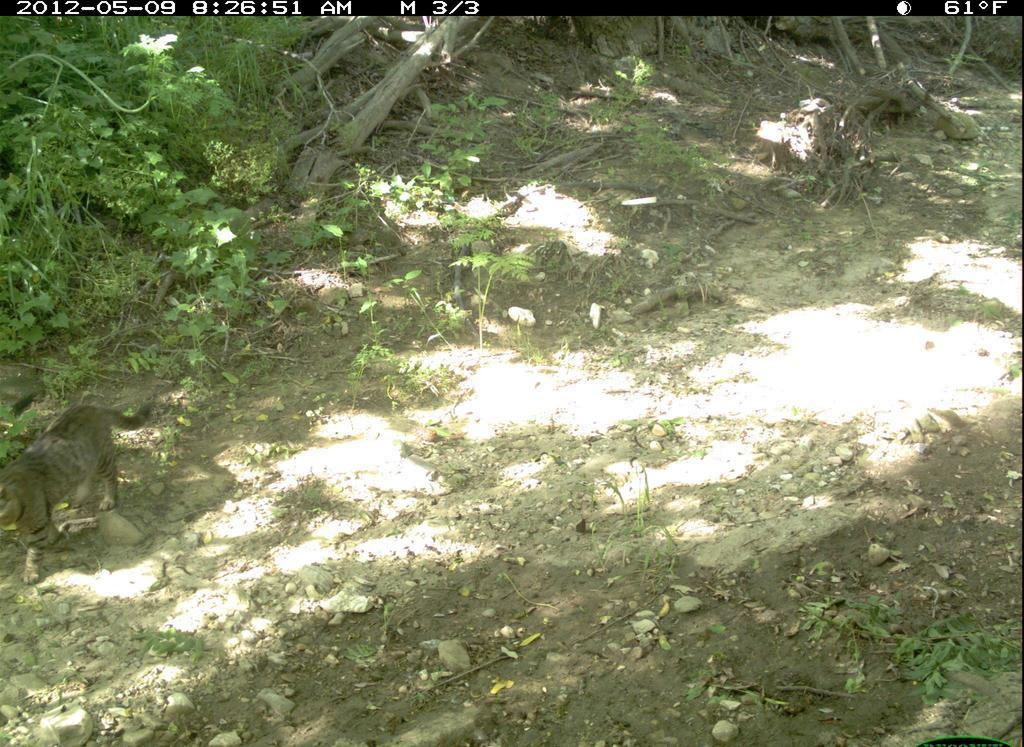cat: (1, 392, 163, 557)
